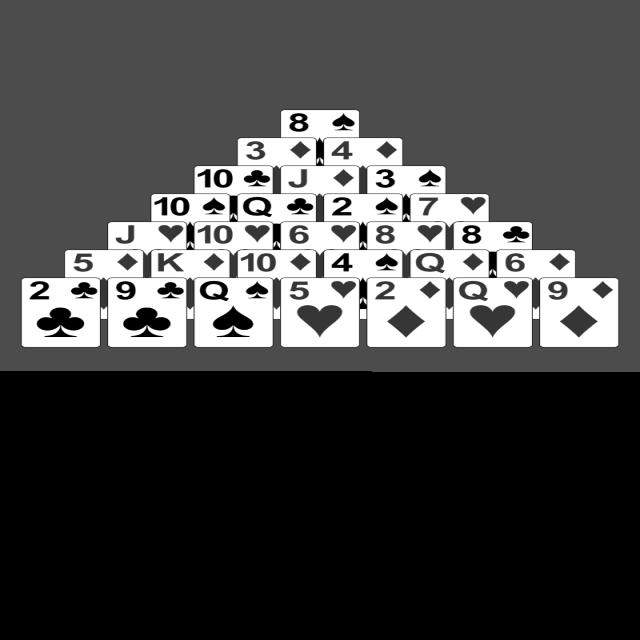ImageView: (21, 71, 622, 359)
